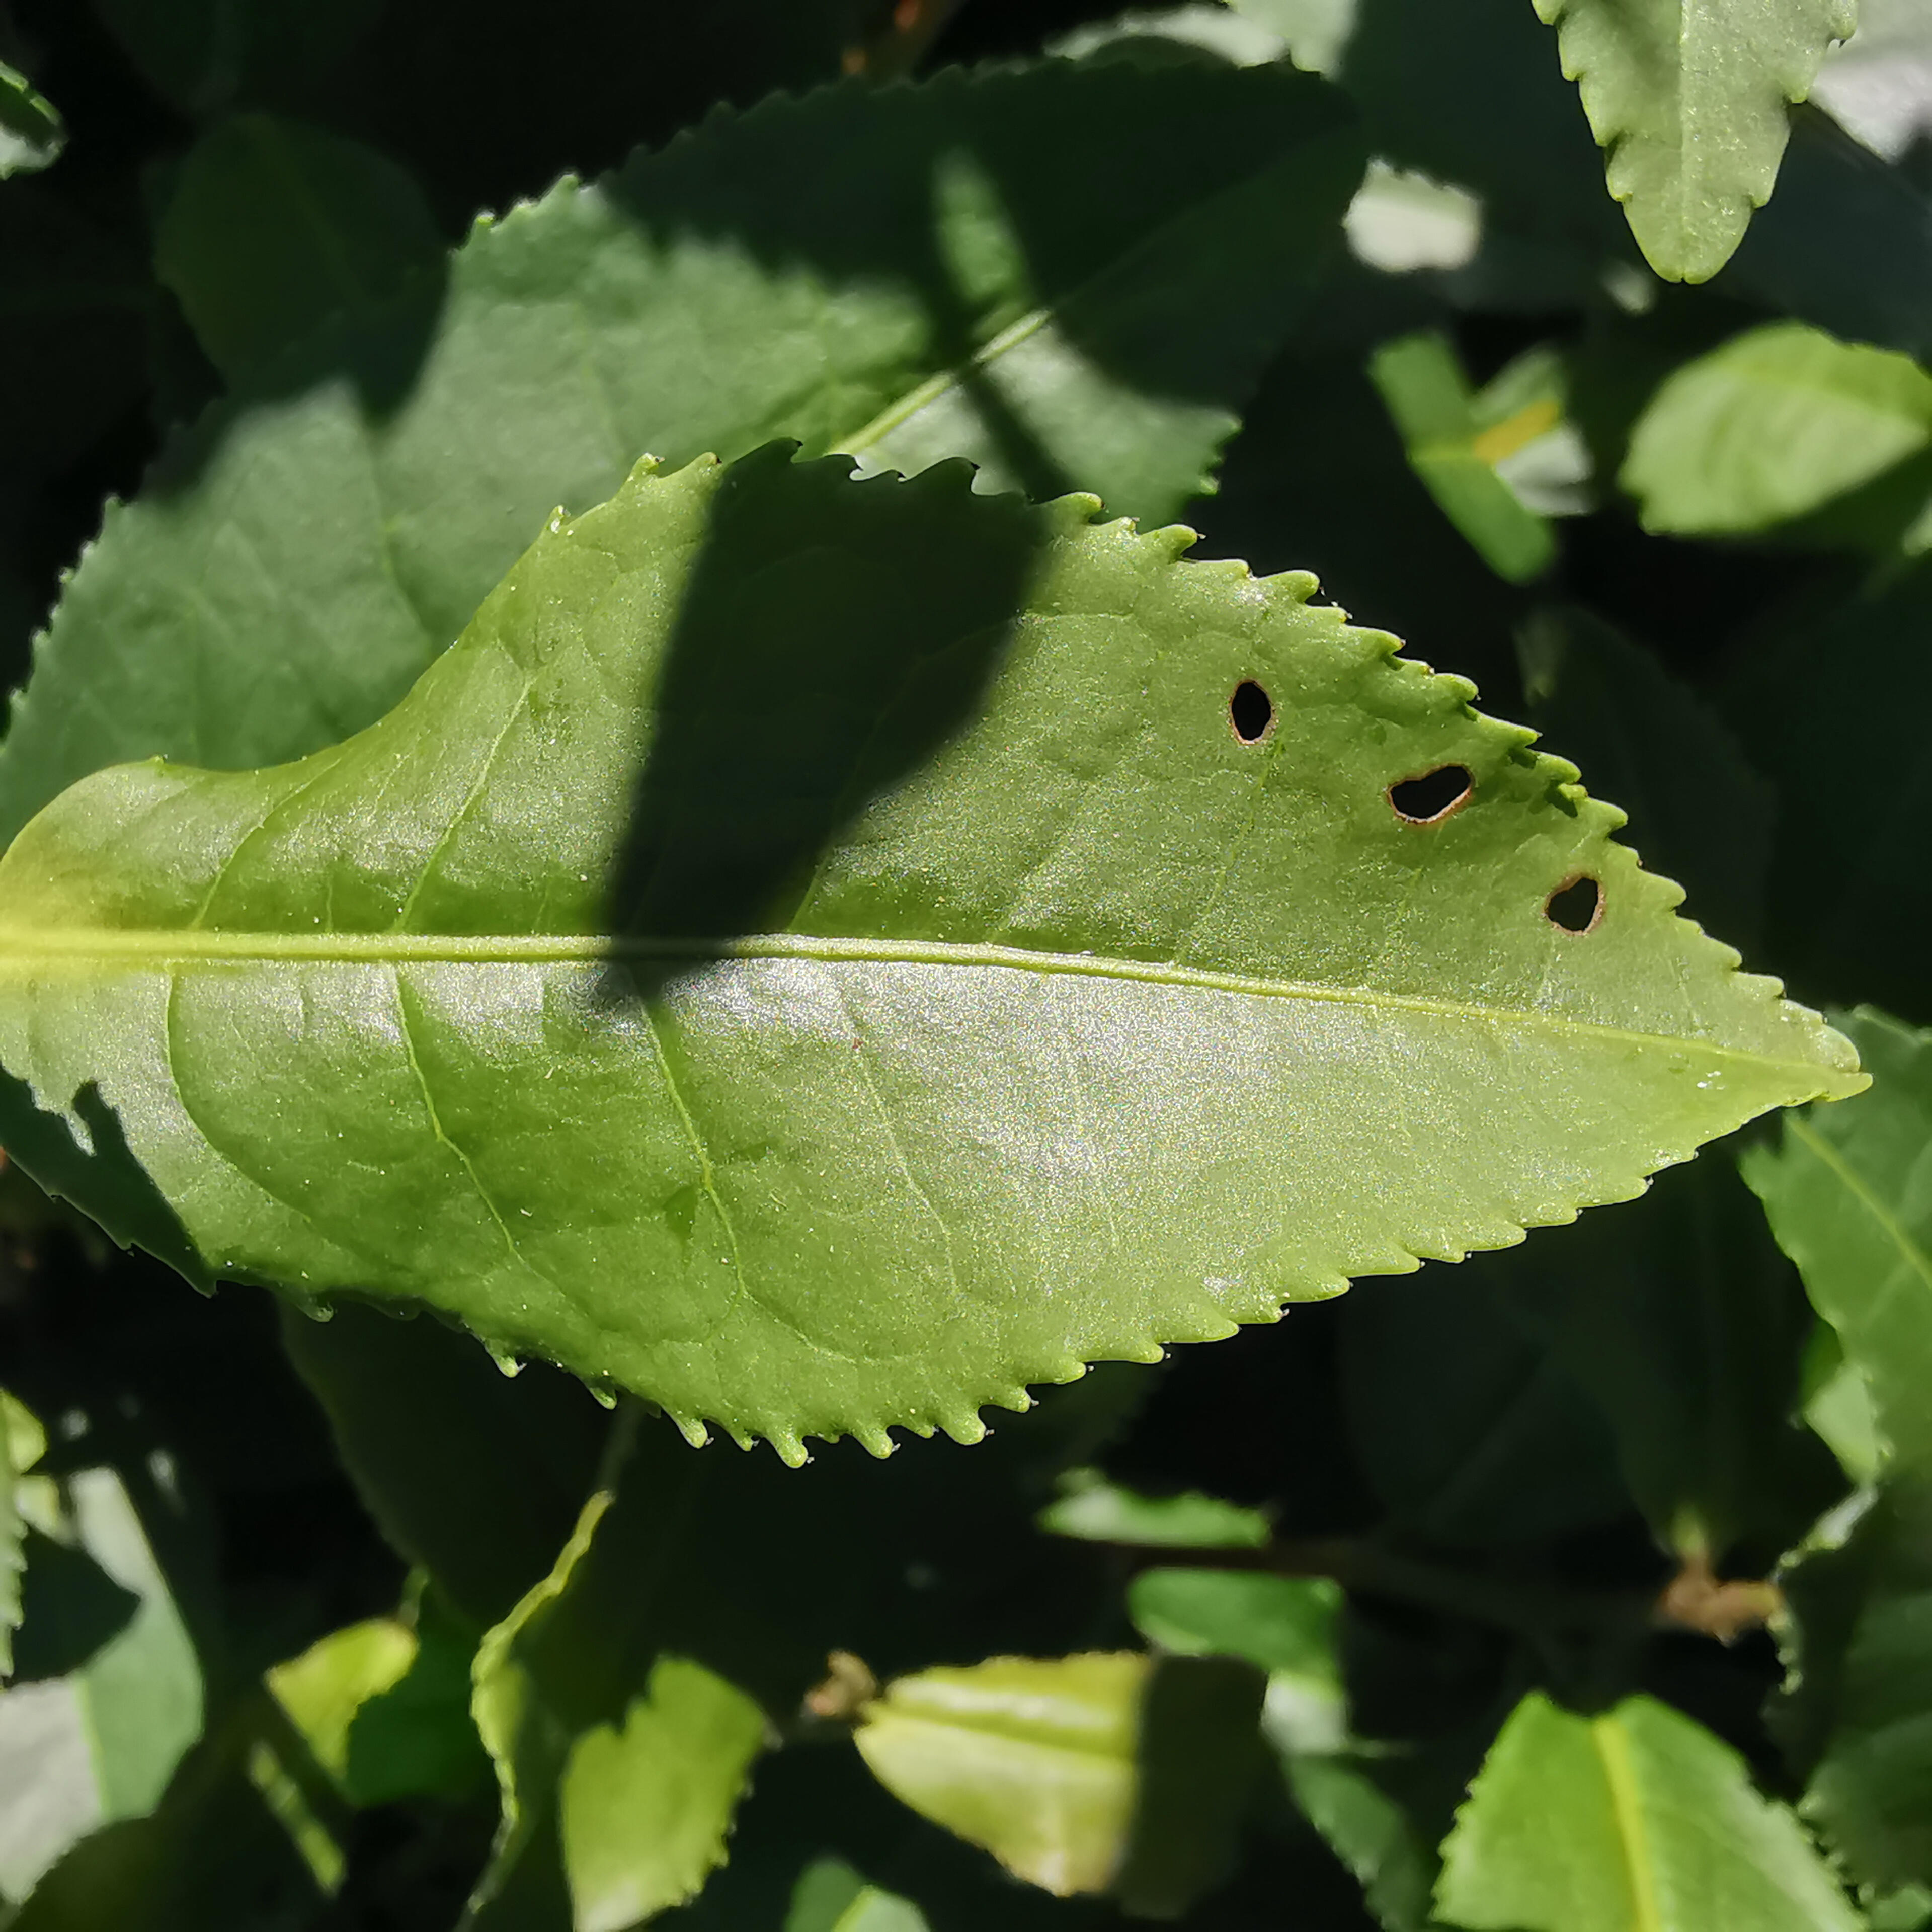chihuo_high: (2, 435, 1874, 1481)
